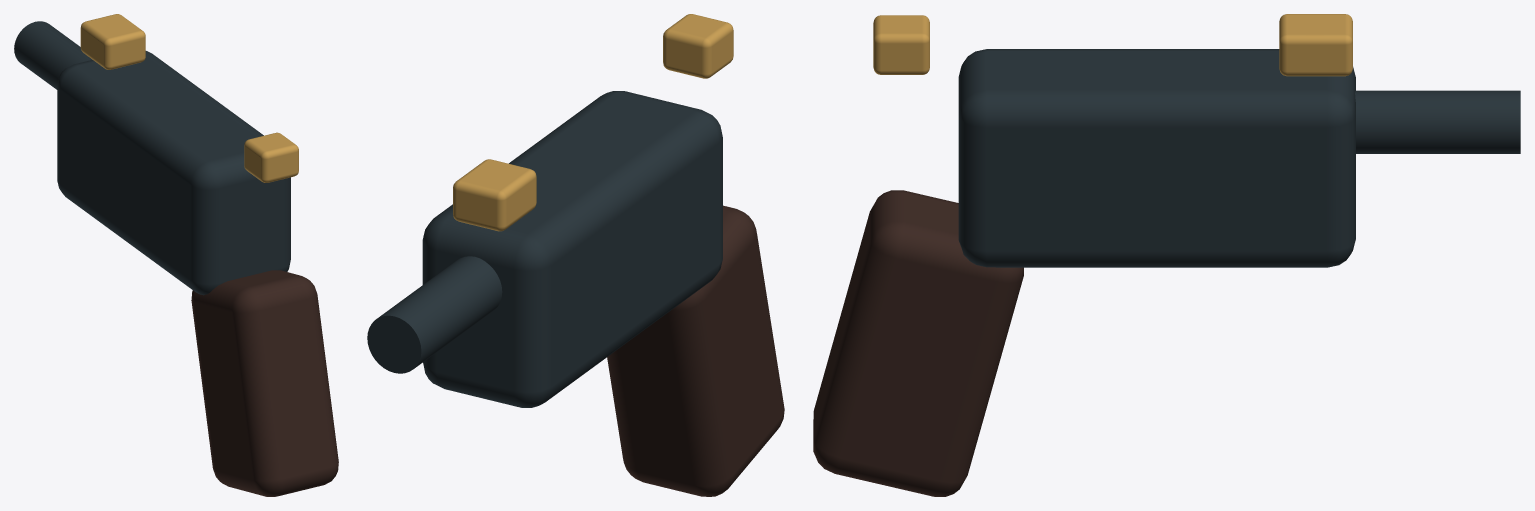
File: pistol.glb
3 views of the same model, side by side, from view 1: azimuth 30°, elevation 25°; view 2: azimuth 150°, elevation 25°; view 3: azimuth 270°, elevation 25° (orthographic). The views are drawn at different scales.
Visible parts, largest first — view 1: pistol; view 2: pistol; view 3: pistol.
Part boxes in pixels (x1,y1,x2,y2): pistol: [14, 14, 338, 496]; pistol: [367, 14, 784, 496]; pistol: [813, 14, 1520, 496].
Size of the model in its own units: 0.13 by 0.4424 by 0.6228.
